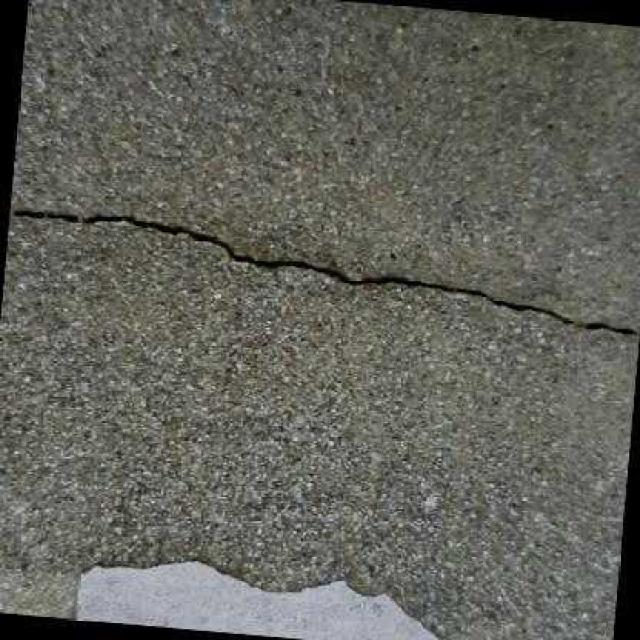D00: (11, 210, 639, 337)
